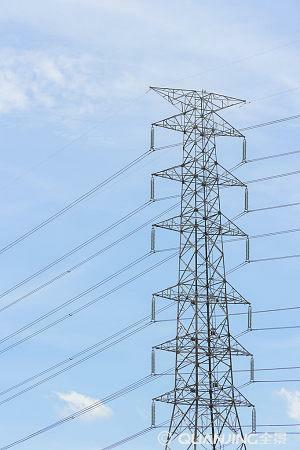power_tower: (145, 79, 265, 443)
